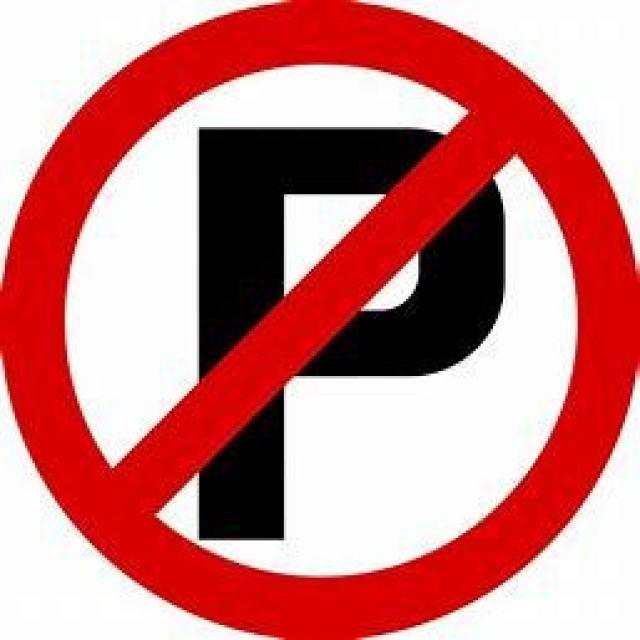no parking: (20, 17, 626, 627)
